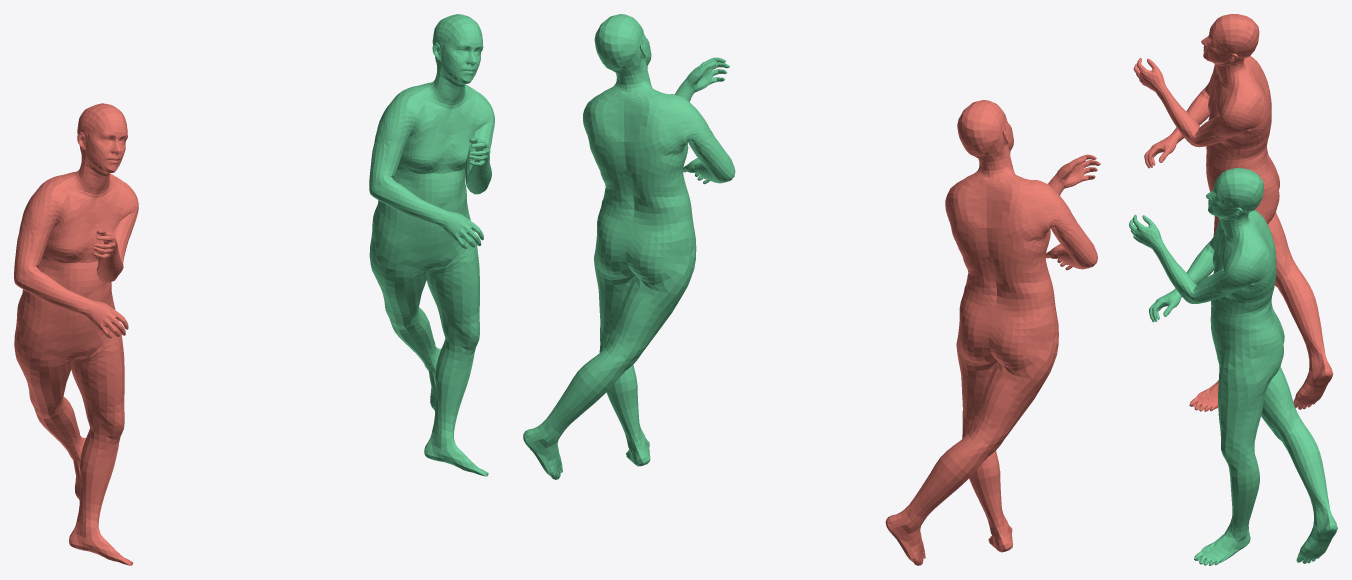
Rendered from pose_352_before_after.glb.
The picture shows the model from 3 angles, left to right: view 1: azimuth 30°, elevation 25°; view 2: azimuth 150°, elevation 25°; view 3: azimuth 270°, elevation 25°; orthographic projection. The views are drawn at different scales.
Parts seen in each view (by area): view 1: poseshield_green, input_red; view 2: input_red, poseshield_green; view 3: poseshield_green, input_red.
Boxes of the visible parts, bbox=[...] form: poseshield_green: bbox=[369, 14, 494, 476]; input_red: bbox=[14, 103, 138, 565]; input_red: bbox=[885, 100, 1100, 565]; poseshield_green: bbox=[523, 14, 735, 479]; poseshield_green: bbox=[1129, 168, 1337, 565]; input_red: bbox=[1133, 14, 1333, 411].
Size of what is drawn, in the model's own units: 2.02 by 1.72 by 0.8251.
